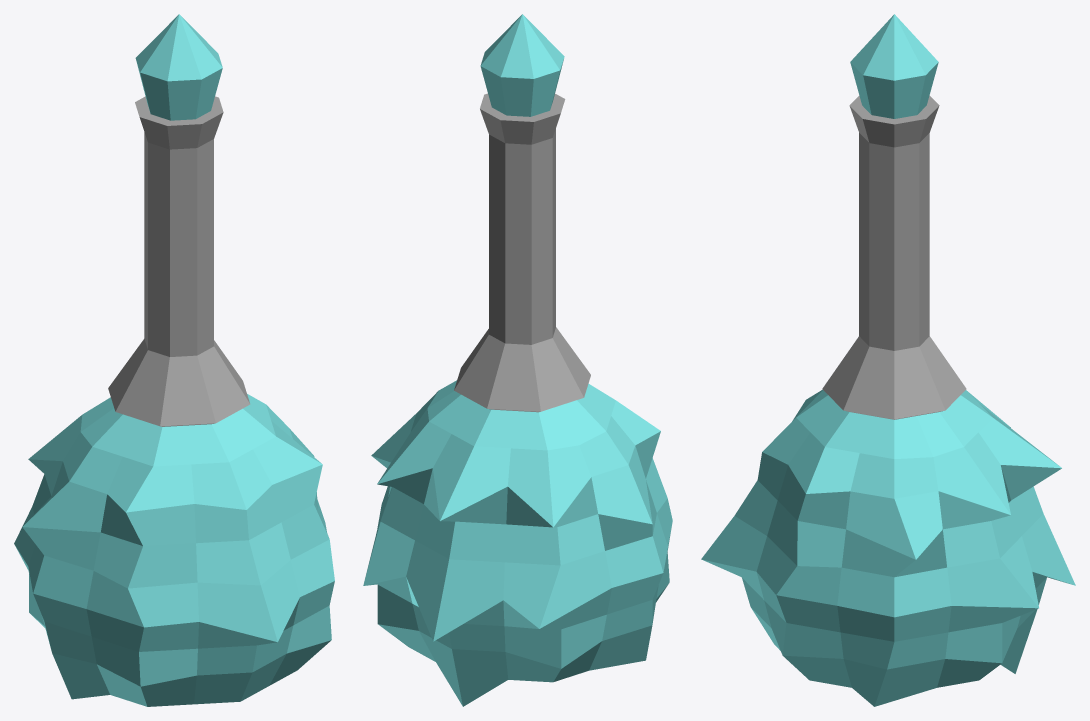
Rendered from Potion3.glb.
3 views of the same model, side by side, from view 1: azimuth 30°, elevation 25°; view 2: azimuth 150°, elevation 25°; view 3: azimuth 270°, elevation 25° (orthographic). The views are drawn at different scales.
Parts seen in each view (by area): view 1: Potion3; view 2: Potion3; view 3: Potion3.
Boxes of the visible parts, x1,y1,x2,y2 form: Potion3: [14, 14, 334, 706]; Potion3: [363, 14, 672, 706]; Potion3: [701, 14, 1075, 706].
Size of the model in its own units: 0.4914 by 1.08 by 0.5569.
